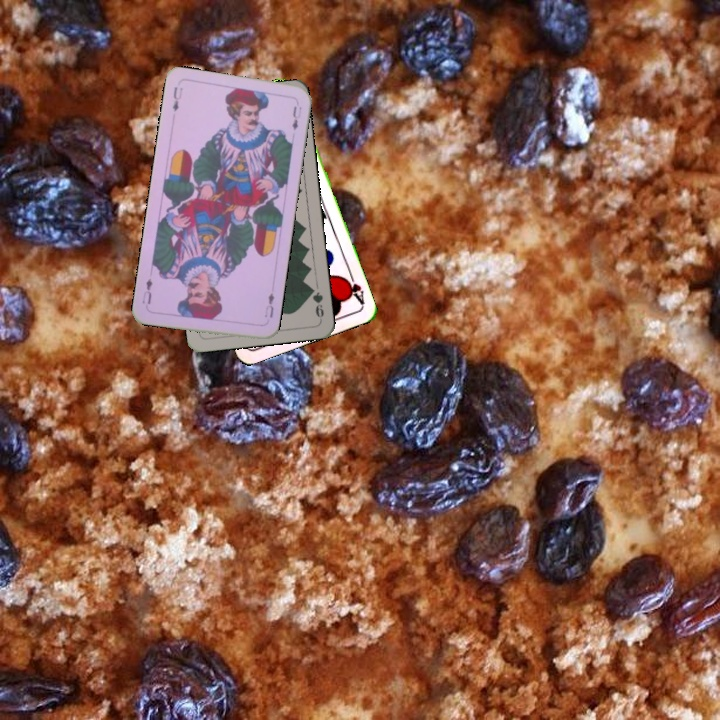EU: (168, 83, 185, 114), (261, 289, 277, 320)
G9: (306, 283, 326, 322)
HA: (340, 269, 368, 308)
